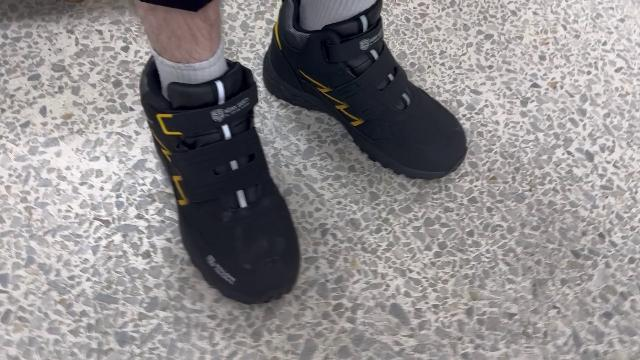shoe_worn: (125, 53, 308, 304), (263, 0, 472, 182)
